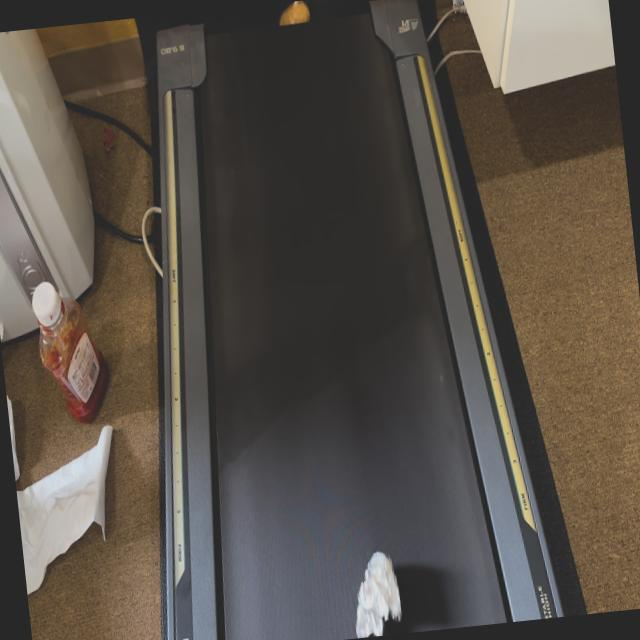Trash: (341, 534, 422, 638), (276, 0, 317, 44)
